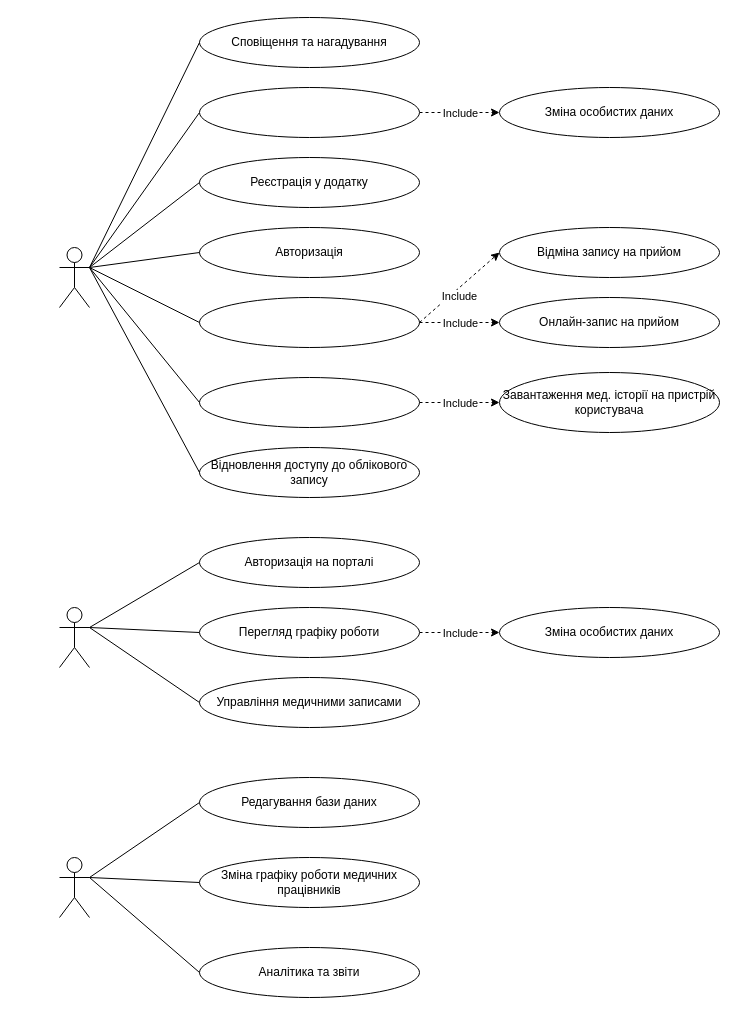
Some shapes in this 737 by 1015 pixel diagram are drawn without their labels. Here are the shapes that lost their labels. From the top down, the centre of each, then its label:
At (x=309, y=112): "Перегляд особистих даних".
At (x=74, y=277): "Клієнт додатку".
At (x=309, y=322): "Перегляд графіку роботи медичного персоналу".
At (x=309, y=402): "Перегляд медичний історій".
At (x=74, y=637): "Медичний працівник".
At (x=74, y=887): "Адміністратор".
